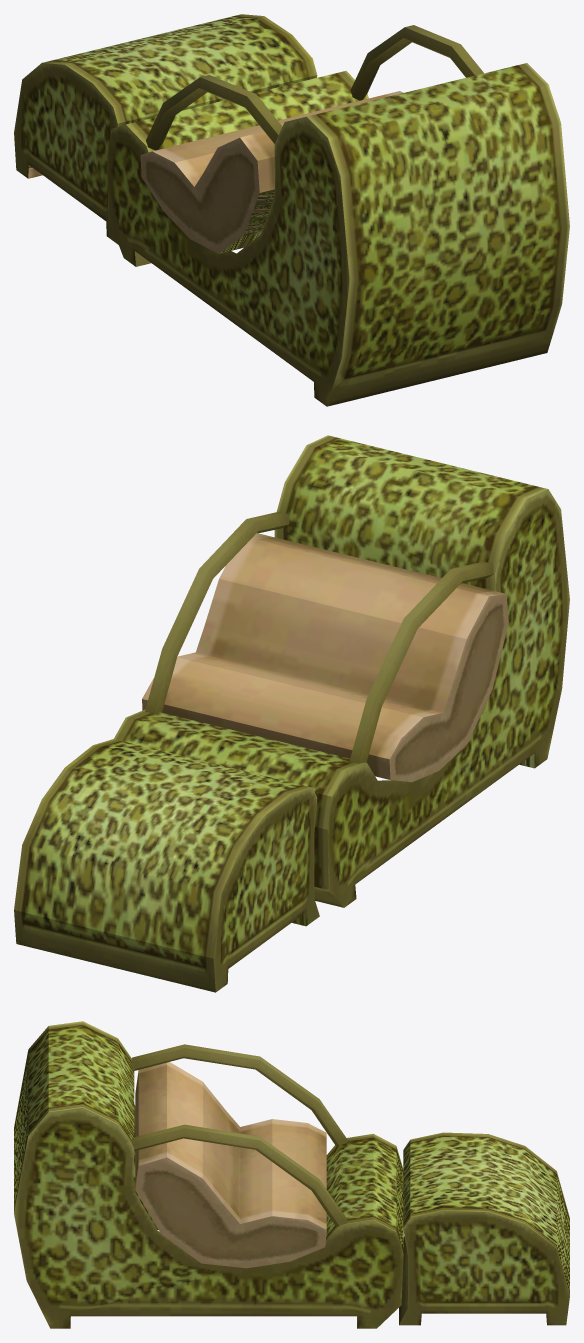
Rendered from furni_0200102_01.FBX.
The picture shows the model from 3 angles, top to bottom: view 1: azimuth 30°, elevation 25°; view 2: azimuth 150°, elevation 25°; view 3: azimuth 270°, elevation 25°; orthographic projection. The views are drawn at different scales.
Parts seen in each view (by area): view 1: furni_0200102_01; view 2: furni_0200102_01; view 3: furni_0200102_01.
Part boxes in pixels (box(x1,y1,x2,y2)): furni_0200102_01: box(14, 14, 569, 406); furni_0200102_01: box(14, 435, 569, 992); furni_0200102_01: box(14, 1021, 569, 1328).
Size of the model in its own units: 79.85 by 85.06 by 193.
